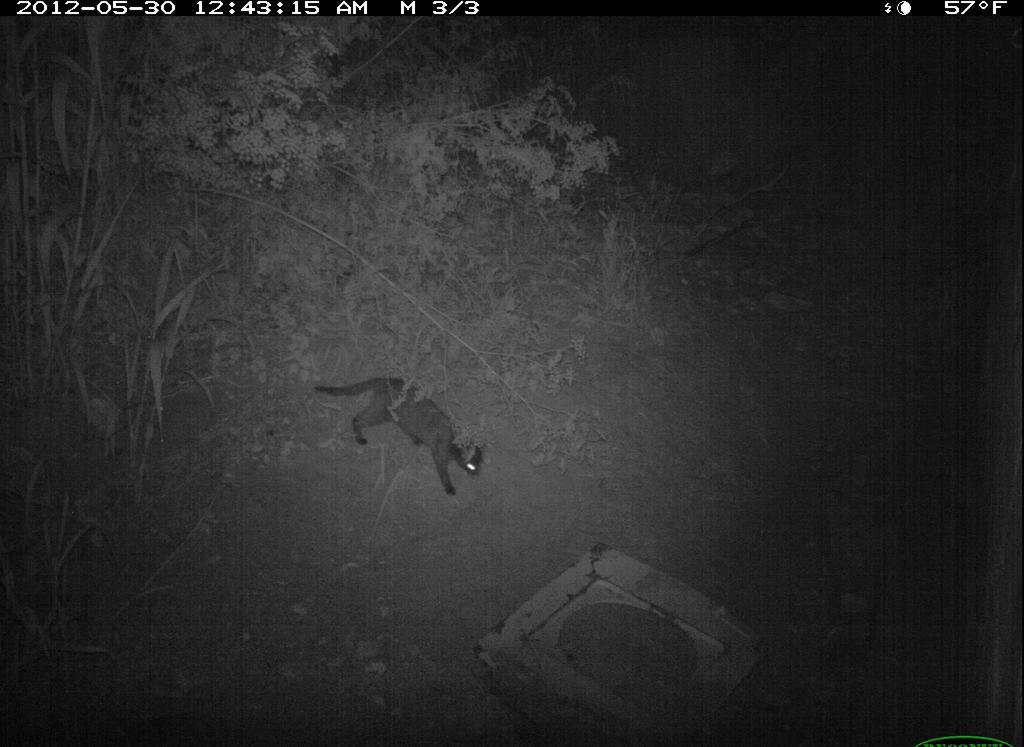cat: (294, 367, 491, 502)
